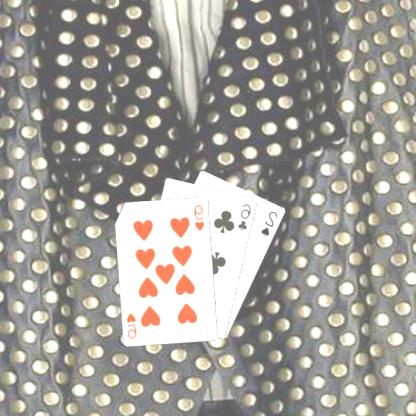2S: (260, 208, 281, 237)
6C: (236, 201, 254, 232)
9H: (193, 202, 208, 232), (125, 310, 140, 340)
